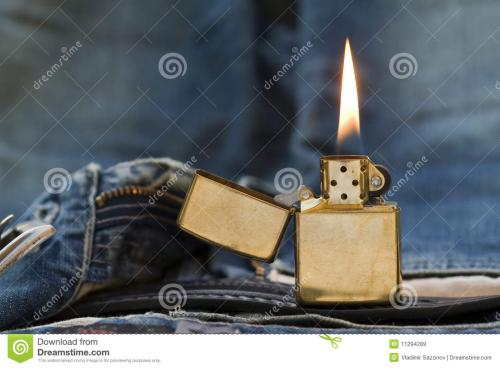Fire: (327, 35, 367, 157)
